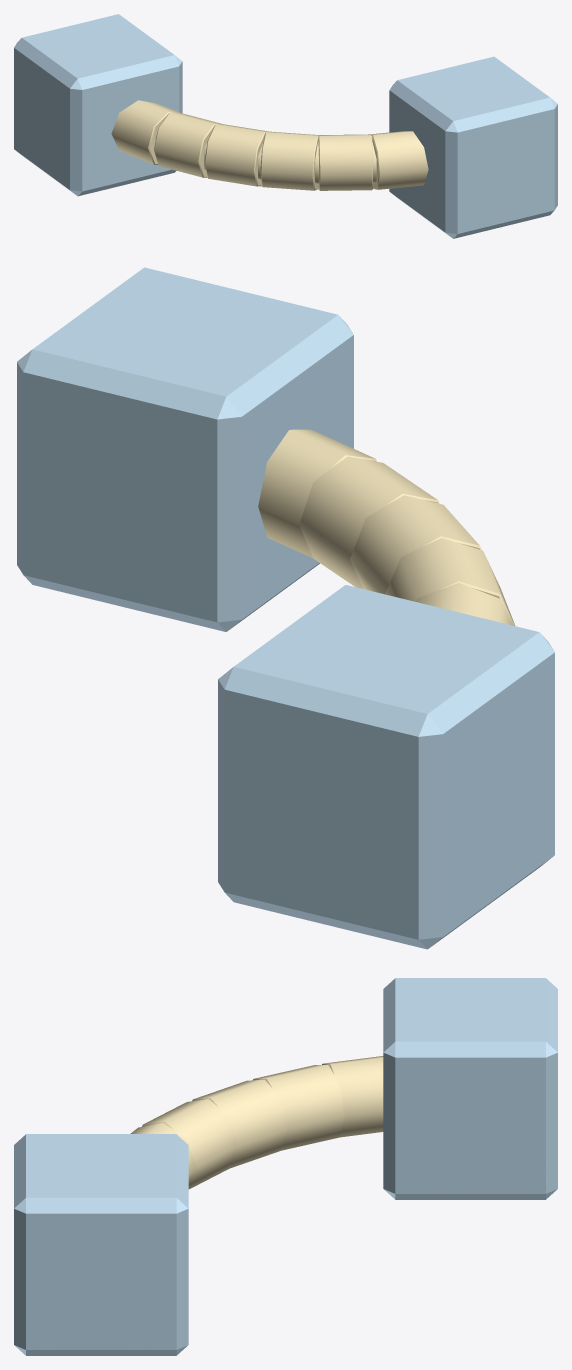
Rendered from R4C_STRUT_ARC_LOD1.glb.
3 views of the same model, one above another, from view 1: azimuth 30°, elevation 25°; view 2: azimuth 150°, elevation 25°; view 3: azimuth 270°, elevation 25° (orthographic). The views are drawn at different scales.
Visible parts, largest first — view 1: R4C_STRUT_ARC_LOD1; view 2: R4C_STRUT_ARC_LOD1; view 3: R4C_STRUT_ARC_LOD1.
Part boxes in pixels (x1=…): R4C_STRUT_ARC_LOD1: x1=14, y1=14, x2=557, y2=238; R4C_STRUT_ARC_LOD1: x1=17, y1=267, x2=554, y2=949; R4C_STRUT_ARC_LOD1: x1=14, y1=978, x2=557, y2=1355.
Size of the model in its own units: 1.62 by 0.52 by 1.62.
